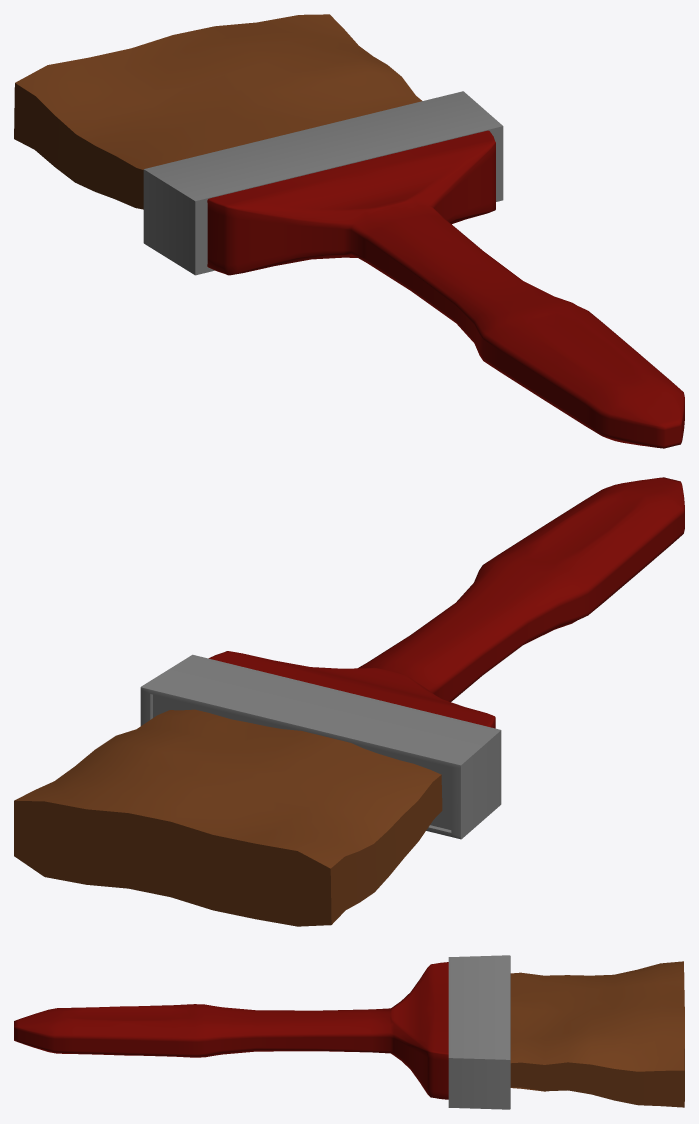
File: kist_ruchkaAnim.fbx
The picture shows the model from 3 angles, top to bottom: view 1: azimuth 30°, elevation 25°; view 2: azimuth 150°, elevation 25°; view 3: azimuth 270°, elevation 25°; orthographic projection. The views are drawn at different scales.
Parts seen in each view (by area): view 1: Box001, Box002, brushmetal; view 2: Box002, Box001, brushmetal; view 3: Box001, Box002, brushmetal.
Part boxes in pixels (x1,y1,x2,y2): Box001: (207,130,684,448); Box002: (14,14,421,209); brushmetal: (143,91,503,275); Box002: (14,709,442,926); Box001: (208,477,684,728); brushmetal: (140,654,501,839); Box001: (14,962,448,1099); Box002: (510,961,684,1107); brushmetal: (448,955,510,1109).
Bounding box in the file's own units: 17.61 × 4.71 × 47.69.
